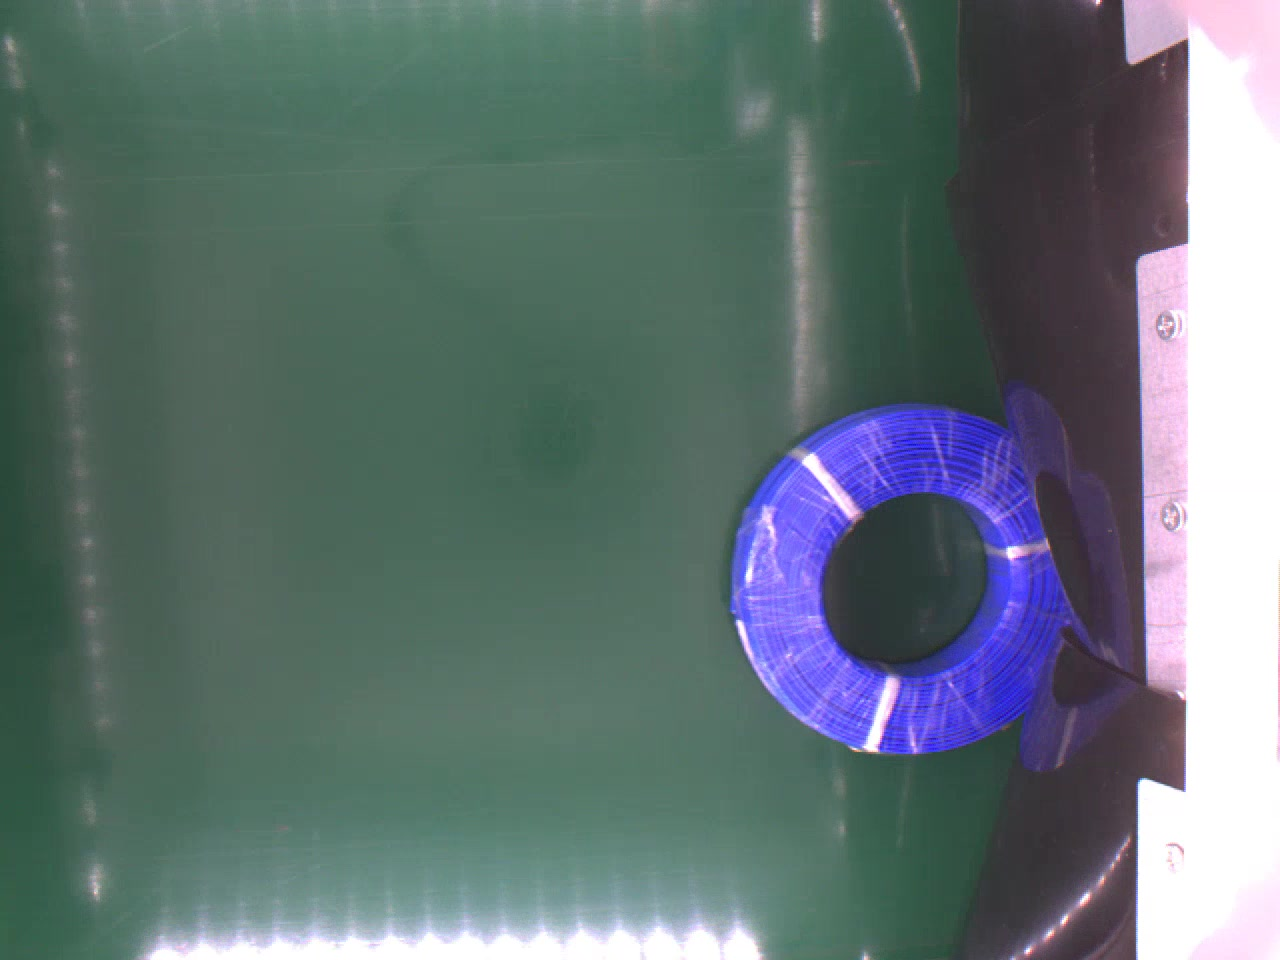blue: (730, 395, 1072, 753)
